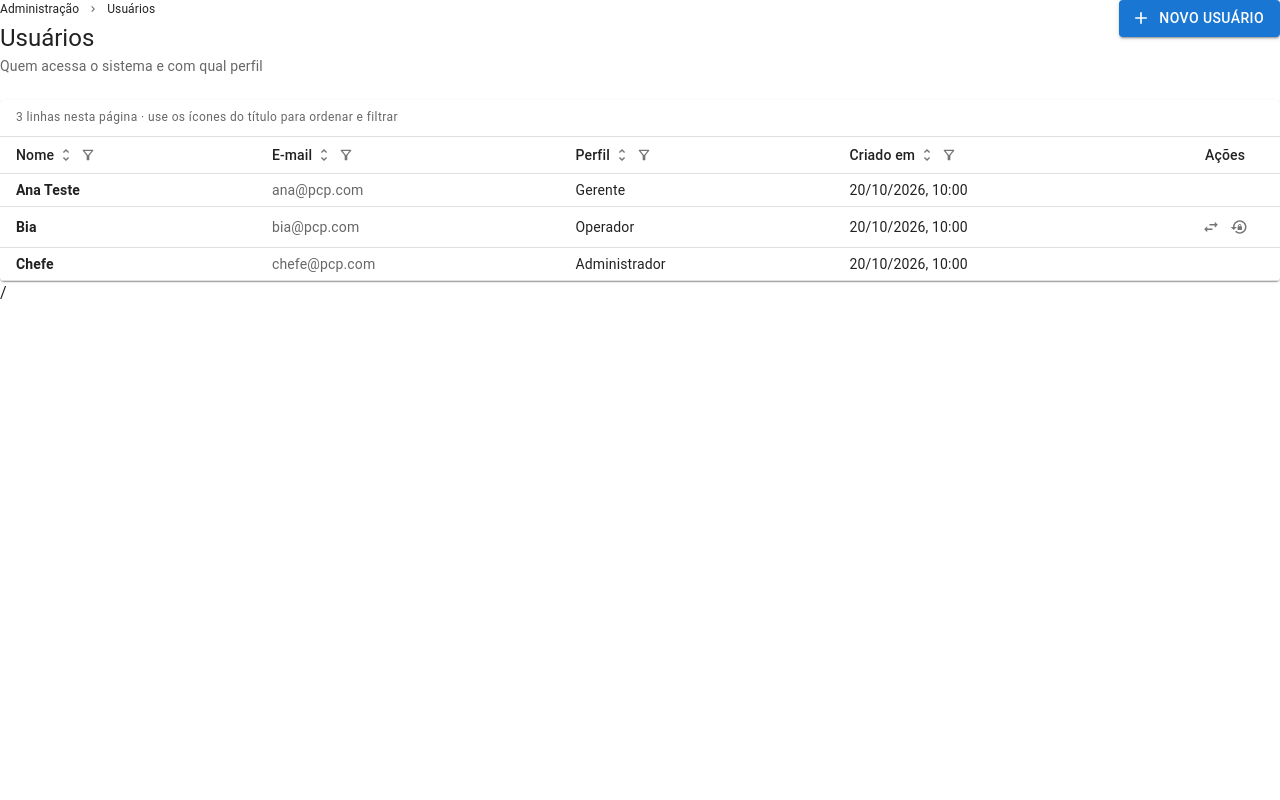
Test case: UsuariosAcessoPage › no cadastro de usuário só aparecem os perfis que o gestor pode conceder
Click the button "Novo usuário" at (1200, 18), box [1119, 0, 1279, 36]
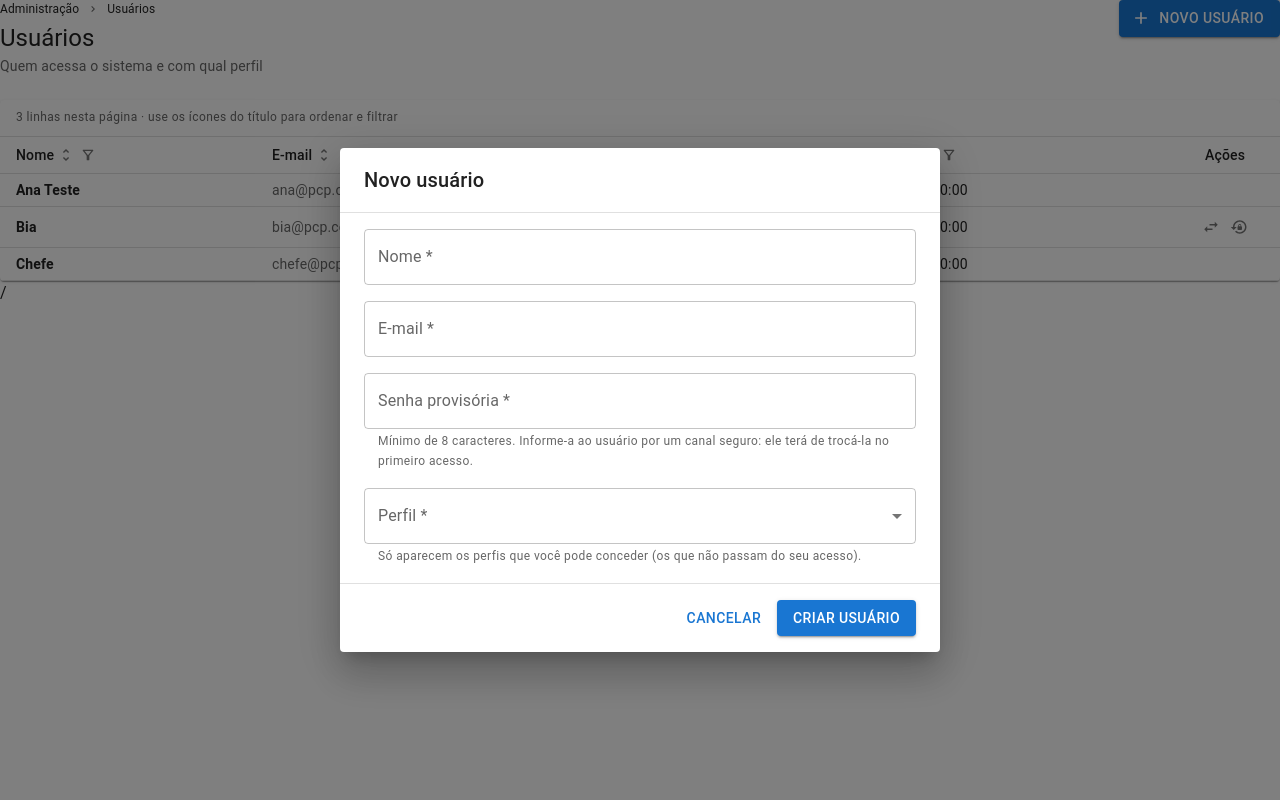
Click the dropdown named "Perfil" at (640, 516), box [364, 488, 916, 544]
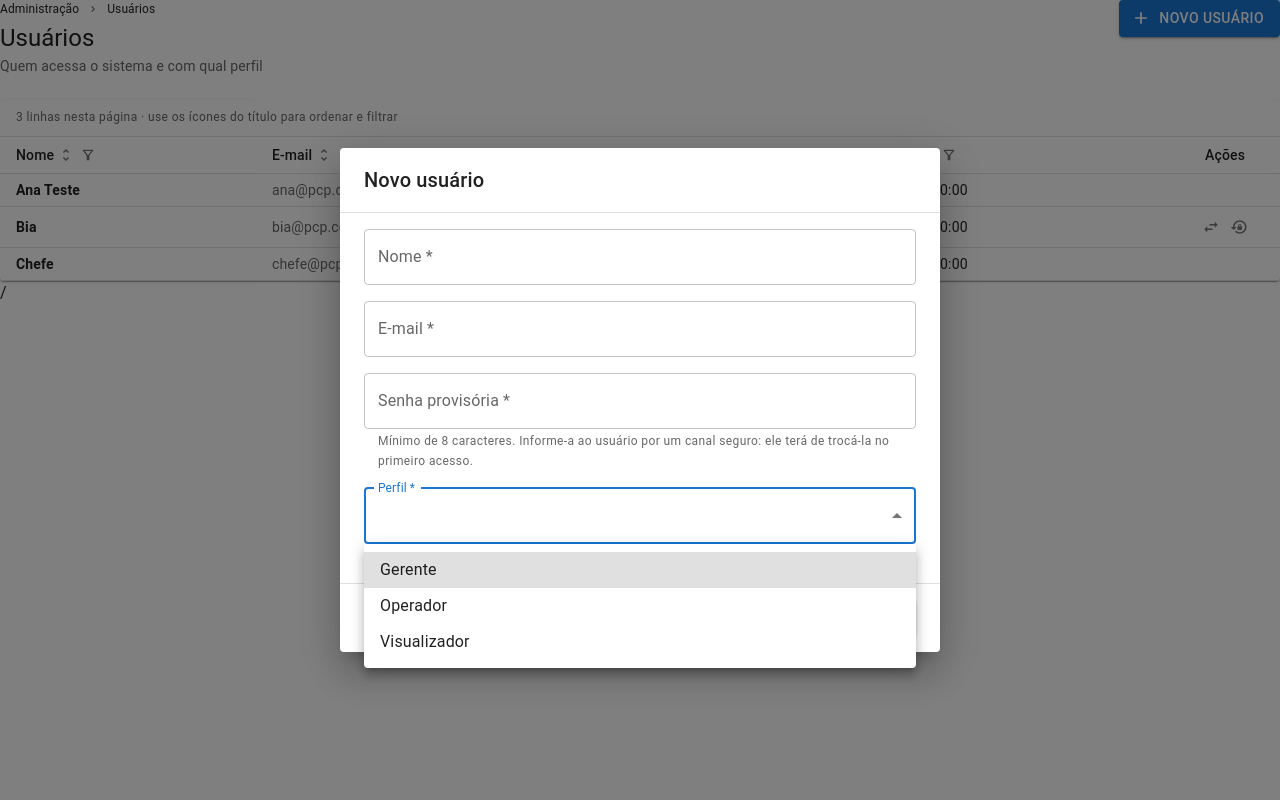
Now the options read "Gerente", "Operador", "Visualizador", in this order, box [364, 552, 916, 588]; [380, 596, 447, 615]; [380, 632, 470, 651]
